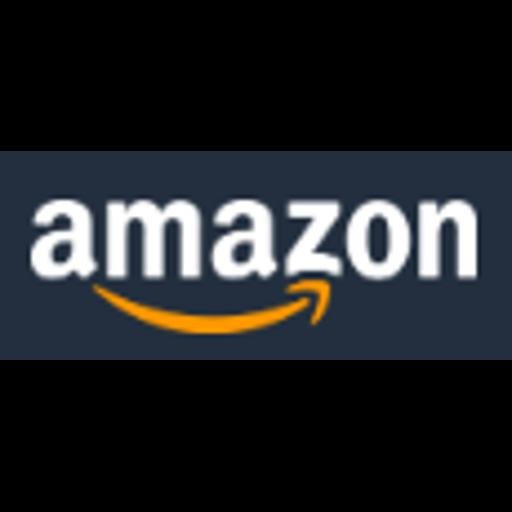Amazon: (0, 151, 512, 360)
